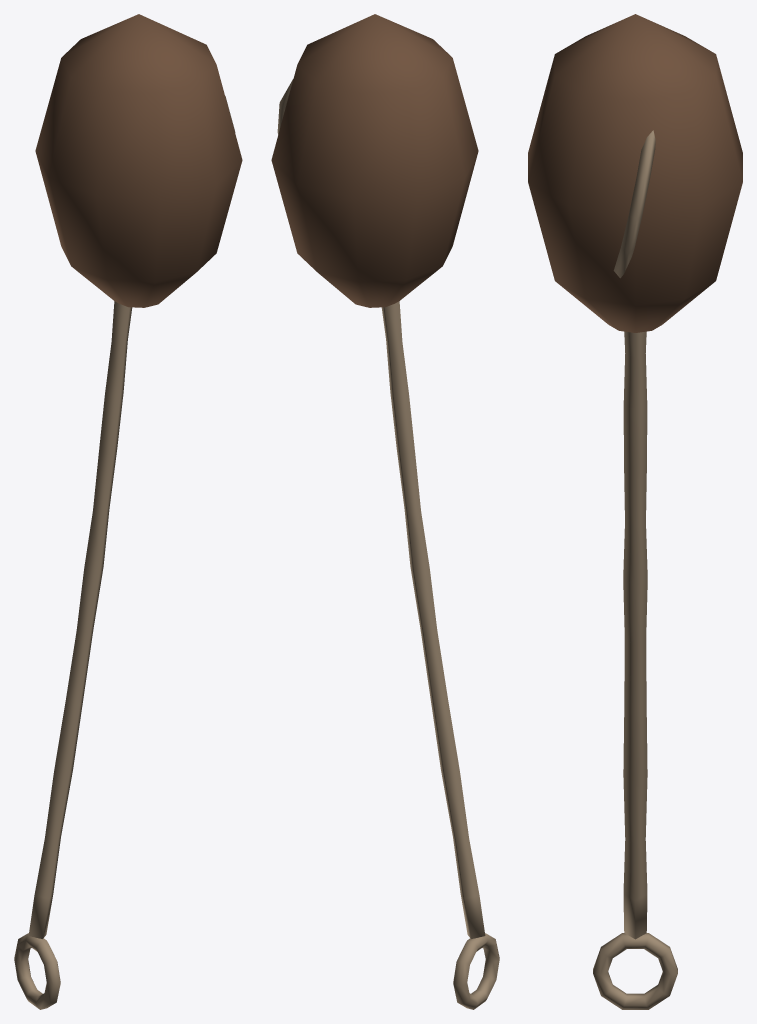
The model's file is halfling-stitched-sling.glb.
The picture shows the model from 3 angles, left to right: view 1: azimuth 30°, elevation 25°; view 2: azimuth 150°, elevation 25°; view 3: azimuth 270°, elevation 25°; orthographic projection. The views are drawn at different scales.
Parts seen in each view (by area): view 1: halfling-stitched-sling; view 2: halfling-stitched-sling; view 3: halfling-stitched-sling.
Boxes of the visible parts, box(x1,y1,x2,y2) form: halfling-stitched-sling: box(14, 14, 242, 1009); halfling-stitched-sling: box(271, 14, 499, 1009); halfling-stitched-sling: box(528, 14, 742, 1009).
Bounding box in the file's own units: 0.1838 × 0.8187 × 0.1522.
